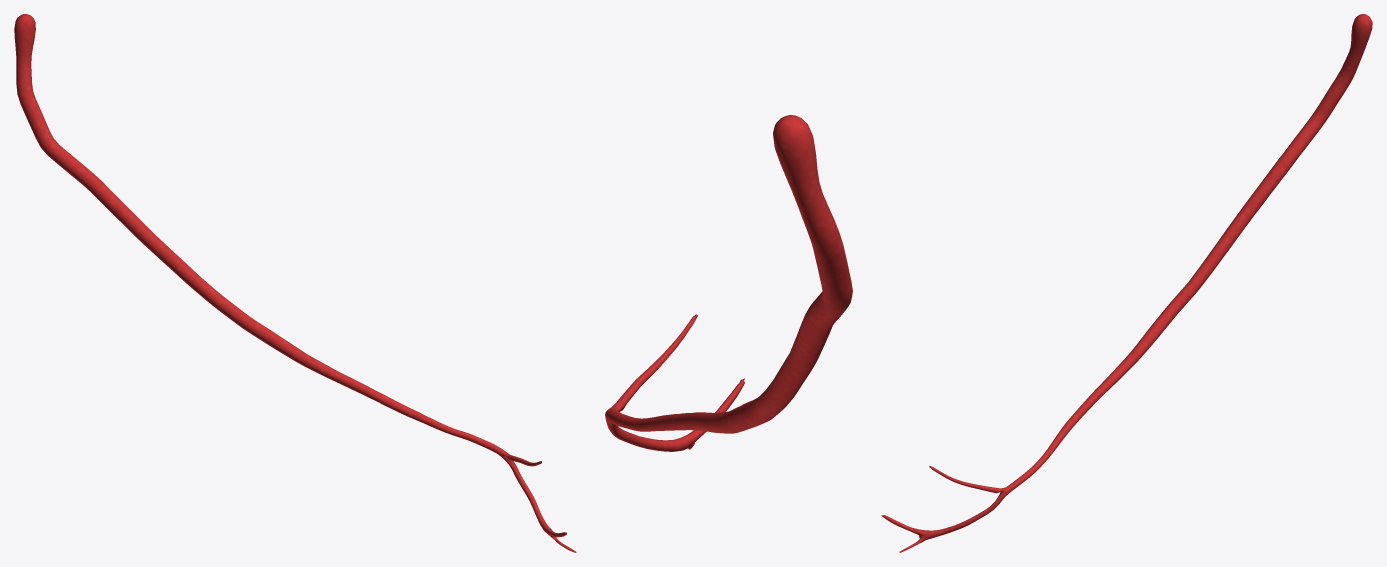
The model's file is CN VI - Abducens Nerve.glb.
The picture shows the model from 3 angles, left to right: view 1: azimuth 30°, elevation 25°; view 2: azimuth 150°, elevation 25°; view 3: azimuth 270°, elevation 25°; orthographic projection. The views are drawn at different scales.
Visible parts, largest first — view 1: CN VI - Abducens Nerve.glb; view 2: CN VI - Abducens Nerve.glb; view 3: CN VI - Abducens Nerve.glb.
Boxes of the visible parts, x1,y1,x2,y2 form: CN VI - Abducens Nerve.glb: [14, 14, 576, 552]; CN VI - Abducens Nerve.glb: [605, 115, 852, 451]; CN VI - Abducens Nerve.glb: [881, 14, 1372, 552].
Bounding box in the file's own units: 0.0707 × 0.091 × 0.1012.
1 material, 1 textured.
